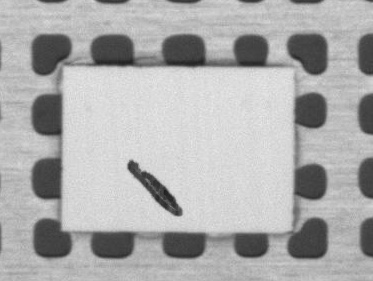DIE_INK: (123, 157, 182, 218)
